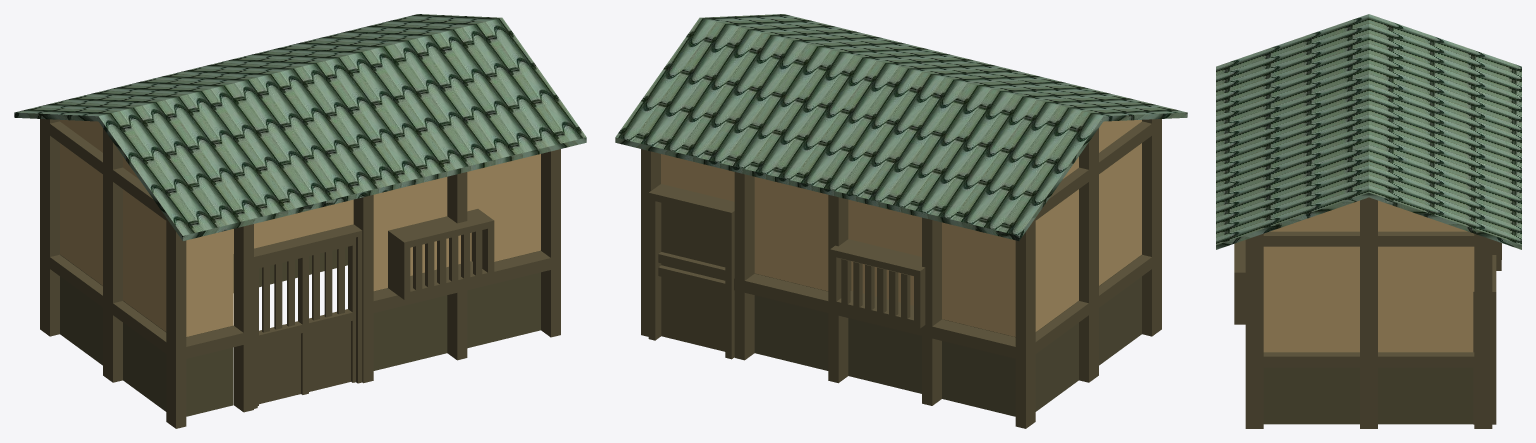
Rendered from Building1_v01.glb.
3 renders of one model, left to right at view 1: azimuth 30°, elevation 25°; view 2: azimuth 150°, elevation 25°; view 3: azimuth 270°, elevation 25°, orthographic. The views are drawn at different scales.
Visible parts, largest first — view 1: SM_Building1; view 2: SM_Building1; view 3: SM_Building1.
Part boxes in pixels (left/top/right/bottom): SM_Building1: left=14, top=14, right=586, bottom=428; SM_Building1: left=615, top=14, right=1187, bottom=428; SM_Building1: left=1216, top=14, right=1521, bottom=428.
Bounding box in the file's own units: 6.15 × 3.86 × 4.45.
Materials: 4 (1 with a texture image).
